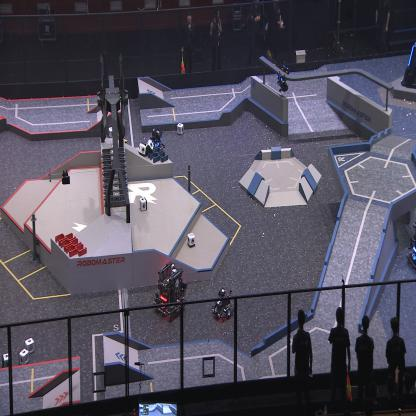car: (153, 260, 186, 320), (210, 286, 235, 322), (406, 220, 416, 270), (146, 128, 166, 152)
